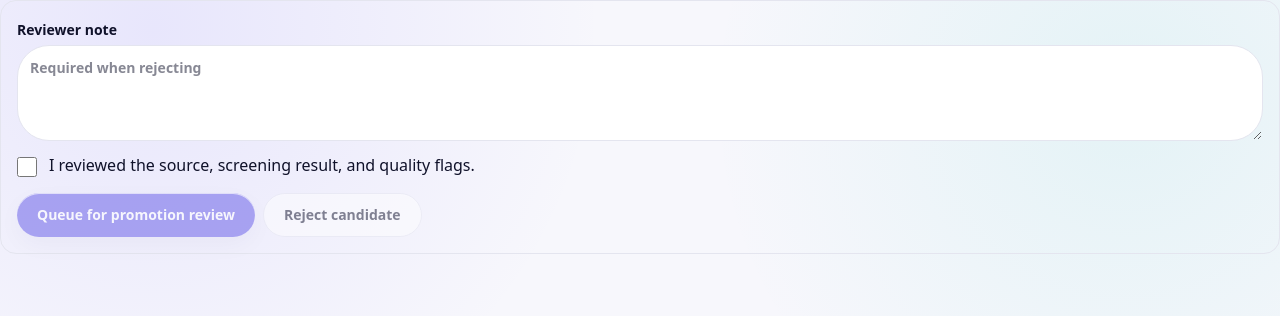
Phase 11 catalog candidate controls › keeps queue and reject actions locked until evidence is acknowledged
The width and height of the screenshot is (1280, 316).
Expected: the button "Queue for promotion review" is disabled, [17, 193, 255, 237]
Click the checkbox: (27,167) [17, 157, 37, 177]
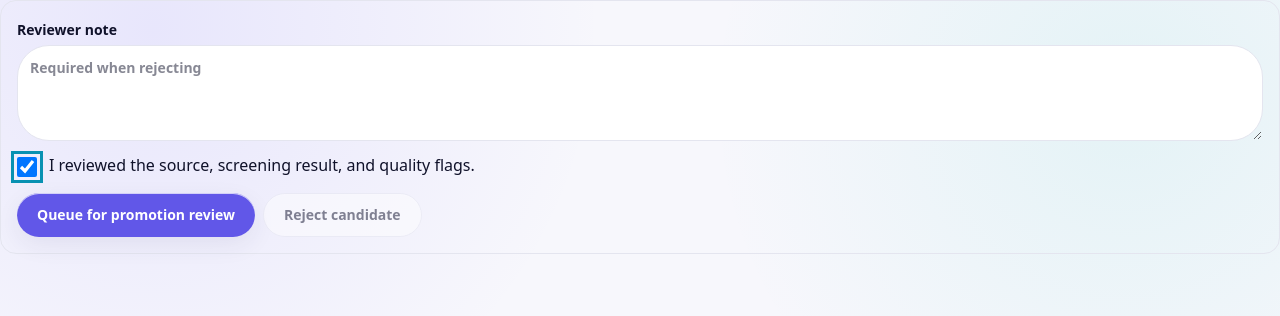
Expected: the button "Reject candidate" is disabled, [263, 193, 422, 237]
Result: the button "Queue for promotion review" is enabled at [17, 193, 255, 237]
